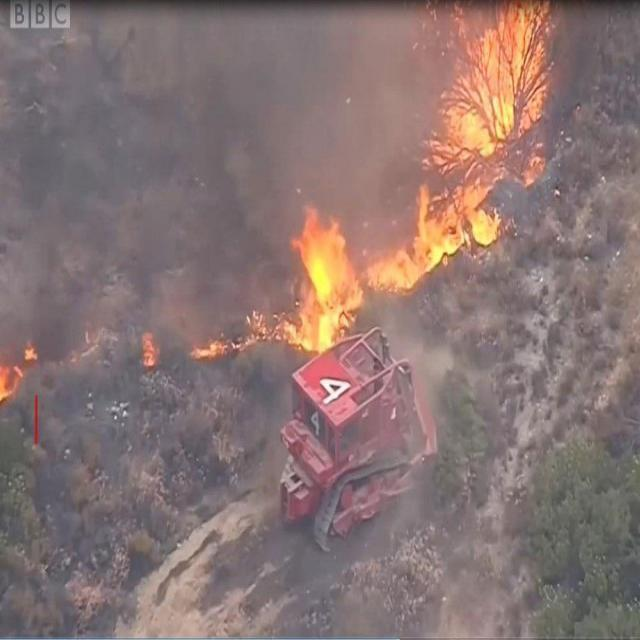Fire: (428, 5, 556, 168), (371, 174, 508, 291), (280, 205, 364, 349), (190, 308, 280, 354), (1, 341, 42, 396), (138, 328, 159, 365)
